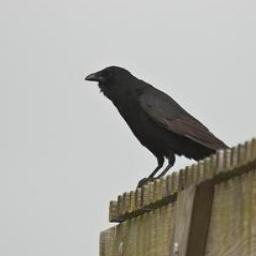Crow: (85, 63, 233, 190)
